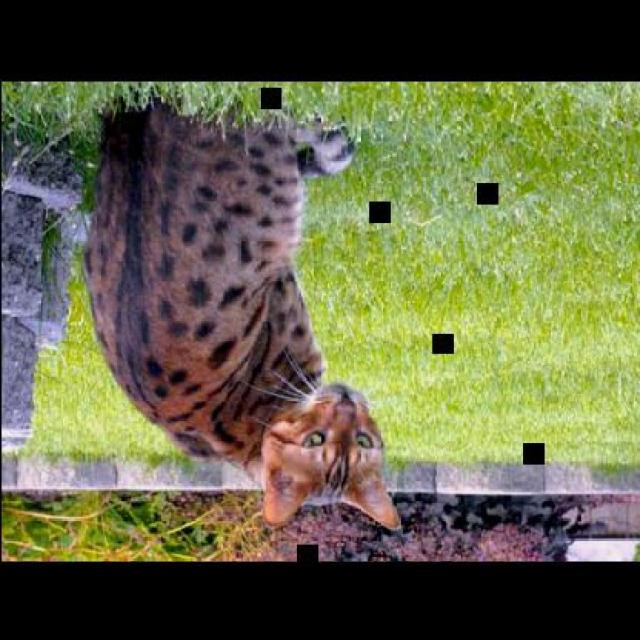unauthorized: (80, 95, 403, 531)
